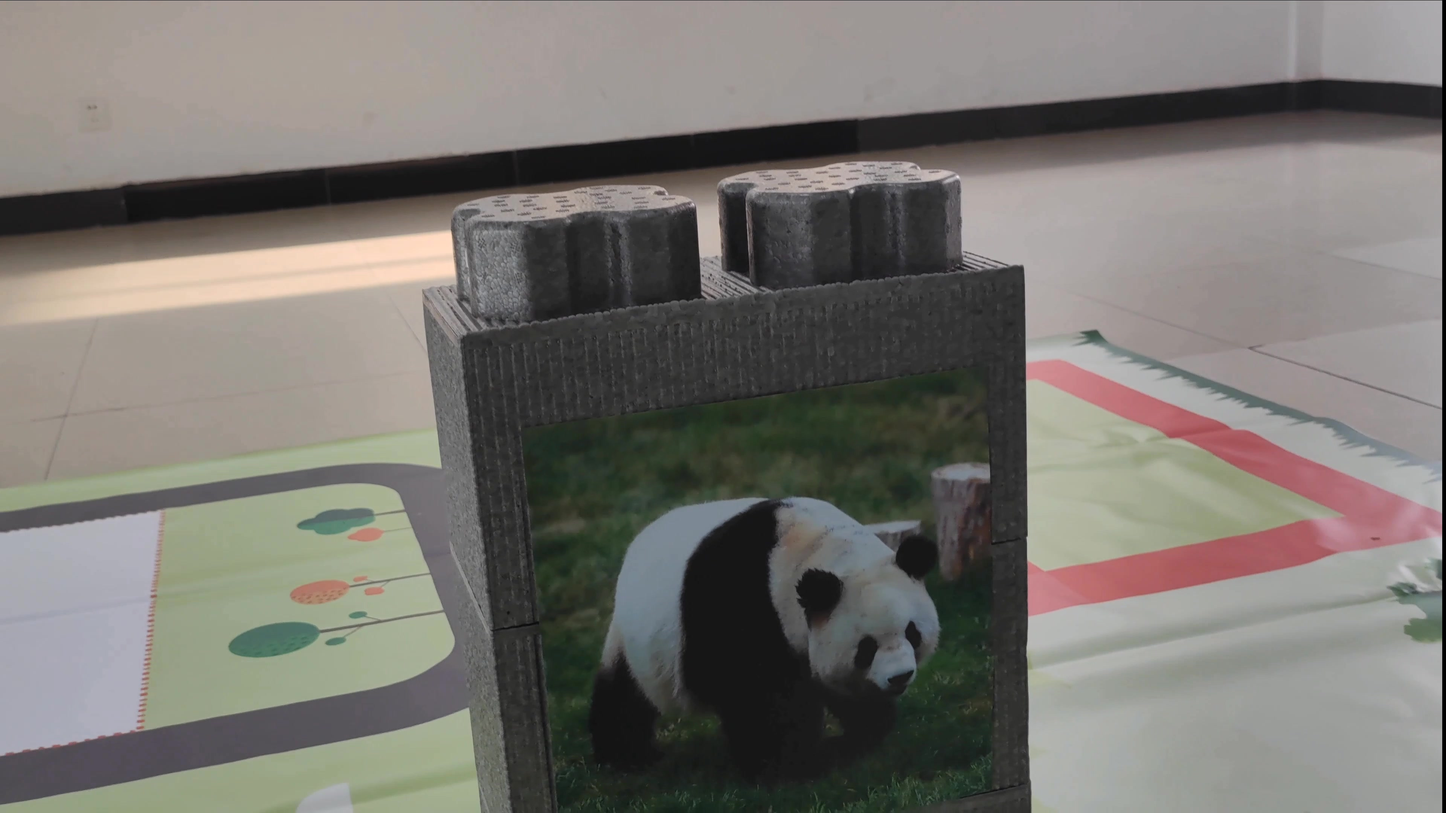panda: (578, 455, 947, 795)
